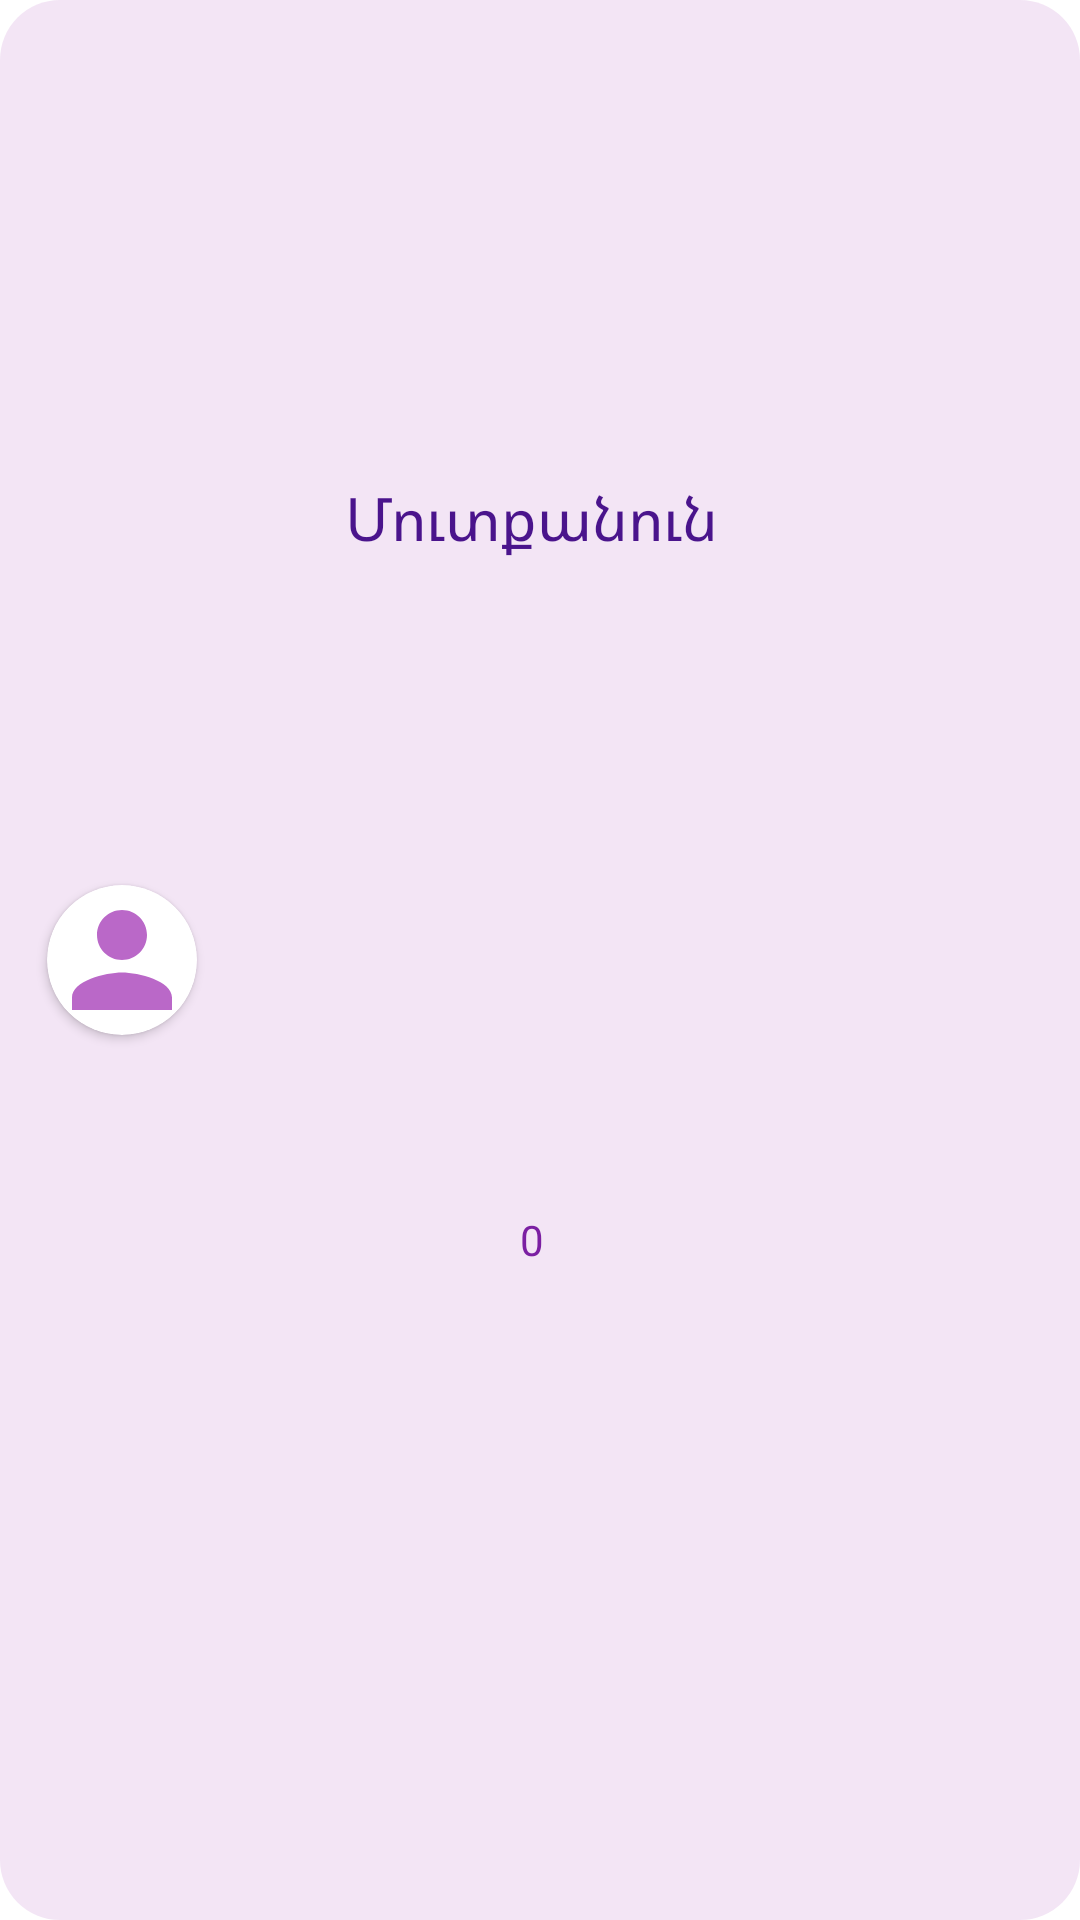

Point at icon controls on the screen. Image size 1080px x 1920px, points as [x,y].
costum person: [122,960]
